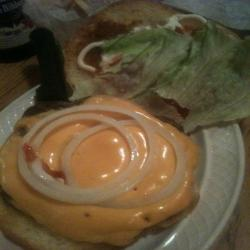burger: (6, 94, 213, 239)
salad: (95, 27, 249, 136)
